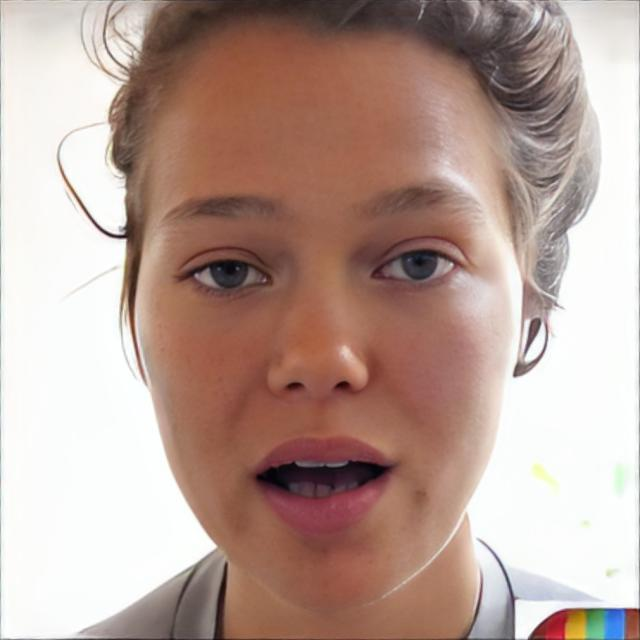surprise: (132, 14, 524, 616)
